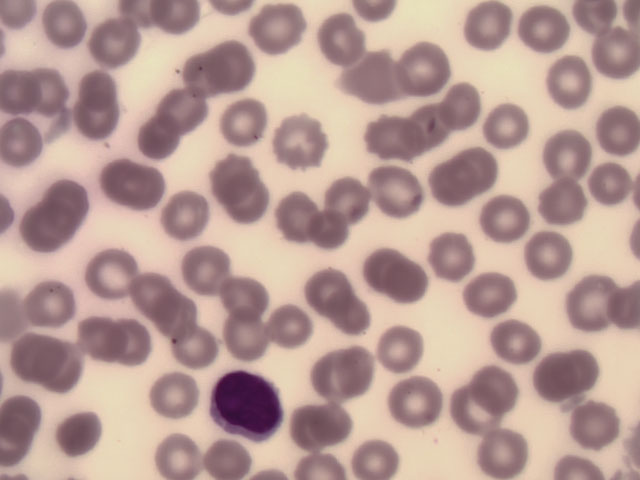RBC: (536, 335, 606, 401), (147, 423, 208, 480), (342, 423, 403, 480), (206, 423, 267, 480), (473, 423, 534, 480), (440, 382, 497, 442), (69, 93, 130, 149), (70, 68, 131, 124), (91, 10, 152, 66), (212, 36, 273, 92), (171, 49, 232, 105), (155, 81, 216, 137), (130, 110, 191, 166), (100, 155, 161, 211), (45, 172, 106, 228), (16, 200, 77, 256), (86, 248, 147, 304), (27, 272, 88, 328), (8, 326, 69, 382), (33, 341, 94, 397), (60, 312, 121, 368), (112, 319, 173, 375), (122, 265, 183, 321), (141, 286, 202, 342), (166, 320, 227, 376), (146, 363, 207, 419), (46, 405, 107, 461), (216, 315, 277, 371), (213, 268, 274, 324), (185, 241, 246, 297), (161, 193, 222, 249), (200, 144, 261, 200), (222, 173, 283, 229), (216, 97, 277, 153), (277, 112, 338, 168), (261, 182, 322, 238), (300, 205, 361, 261), (317, 173, 378, 229), (359, 169, 420, 225), (357, 109, 418, 165), (402, 98, 463, 154), (435, 77, 496, 133), (400, 40, 461, 96), (349, 50, 410, 106), (315, 13, 376, 69), (480, 98, 541, 154), (451, 143, 512, 199), (428, 156, 489, 212), (480, 194, 541, 250), (425, 224, 486, 280), (385, 261, 446, 317), (354, 242, 415, 298), (302, 255, 363, 311), (322, 288, 383, 344), (268, 299, 329, 355), (319, 347, 380, 403), (369, 314, 430, 370), (388, 374, 449, 430), (292, 400, 353, 456), (476, 358, 537, 414), (488, 317, 549, 373), (471, 278, 532, 334), (528, 226, 589, 282), (536, 171, 597, 227), (537, 126, 598, 182), (574, 111, 635, 167), (551, 57, 612, 113), (515, 4, 576, 60), (465, 1, 526, 57), (563, 275, 624, 331), (564, 394, 625, 450), (1, 65, 61, 121), (1, 120, 61, 176), (37, 1, 98, 56), (244, 1, 305, 56)
WBC: (210, 369, 282, 441)
